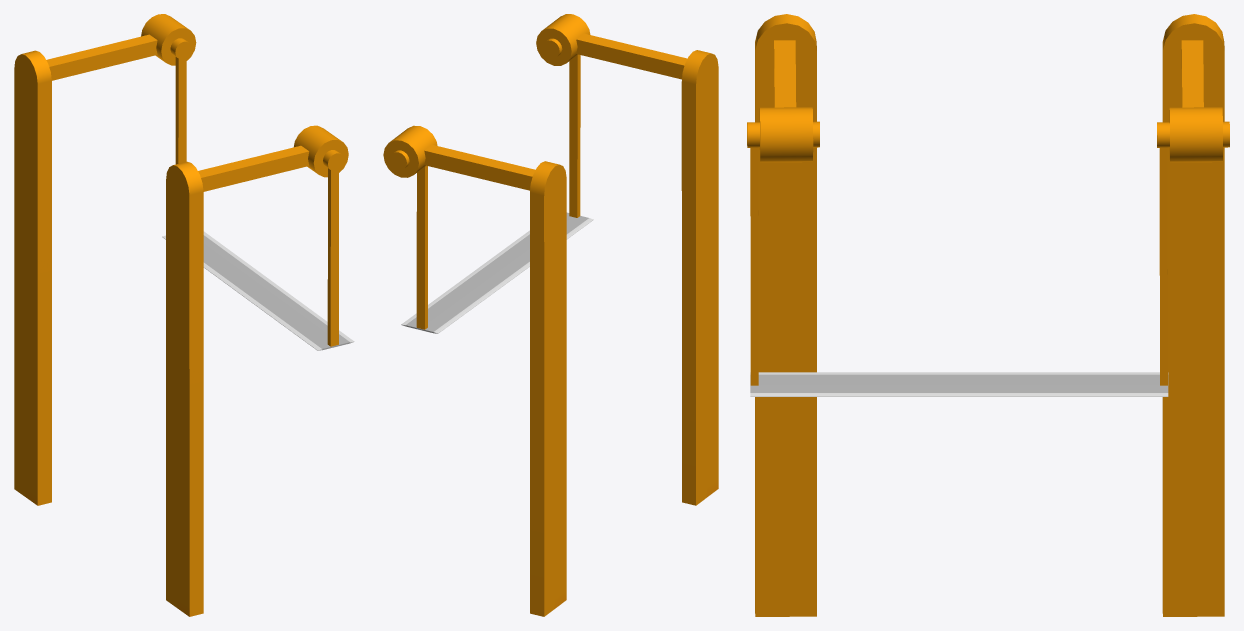
The model's file is trap_15.fbx.
The picture shows the model from 3 angles, left to right: view 1: azimuth 30°, elevation 25°; view 2: azimuth 150°, elevation 25°; view 3: azimuth 270°, elevation 25°; orthographic projection. The views are drawn at different scales.
Visible parts, largest first — view 1: trap_015, trap_015_rotate; view 2: trap_015, trap_015_rotate; view 3: trap_015, trap_015_rotate.
Part boxes in pixels (x1,y1,x2,y2): trap_015: [14, 14, 348, 616]; trap_015_rotate: [162, 57, 354, 350]; trap_015: [383, 14, 718, 616]; trap_015_rotate: [401, 54, 593, 333]; trap_015: [747, 14, 1229, 616]; trap_015_rotate: [750, 147, 1168, 396].
Bounding box in the file's own units: 1237 × 3189 × 2352.
Materials: 1 (1 with a texture image).
